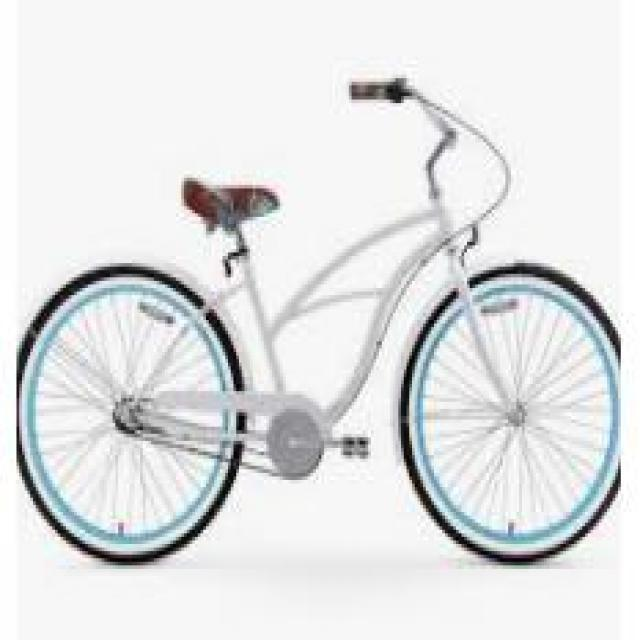bicycle: (26, 79, 625, 609)
